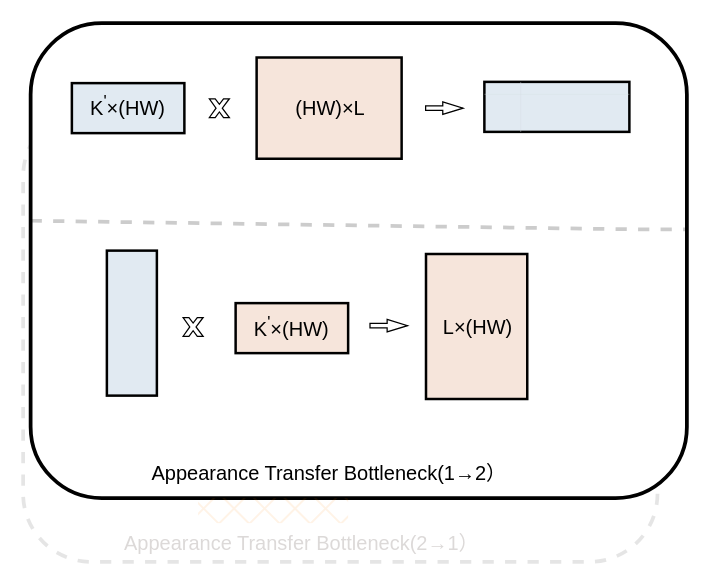
The diagram is 711 pixels wide and 585 high, and some of its shapes have lost their labels. The box of each missing label's shape, as (x1, y1, x2, y2) in pixels:
K ' ×L: (482, 80, 630, 132)
L× K ': (105, 249, 158, 396)
